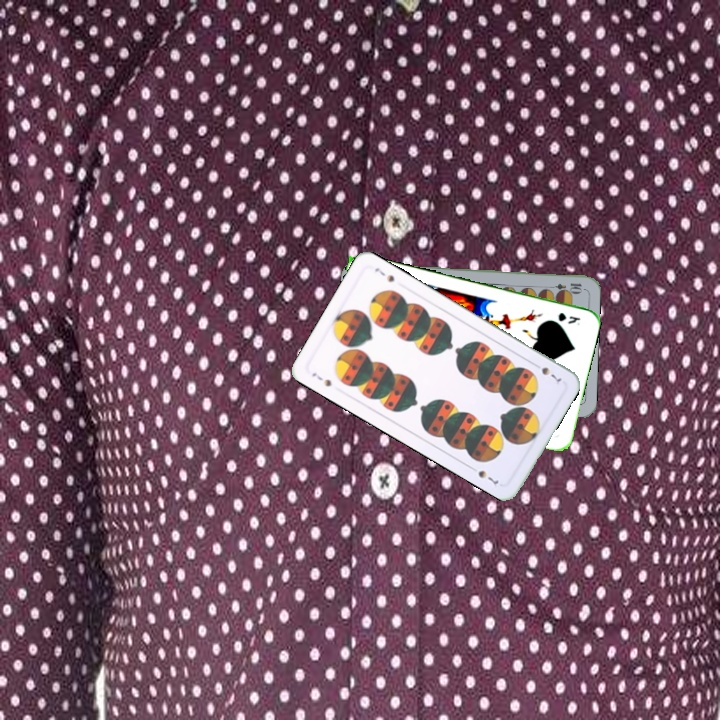E10: (544, 279, 584, 293)
GK: (554, 308, 583, 328)
S7: (529, 359, 564, 384), (308, 368, 334, 389)
